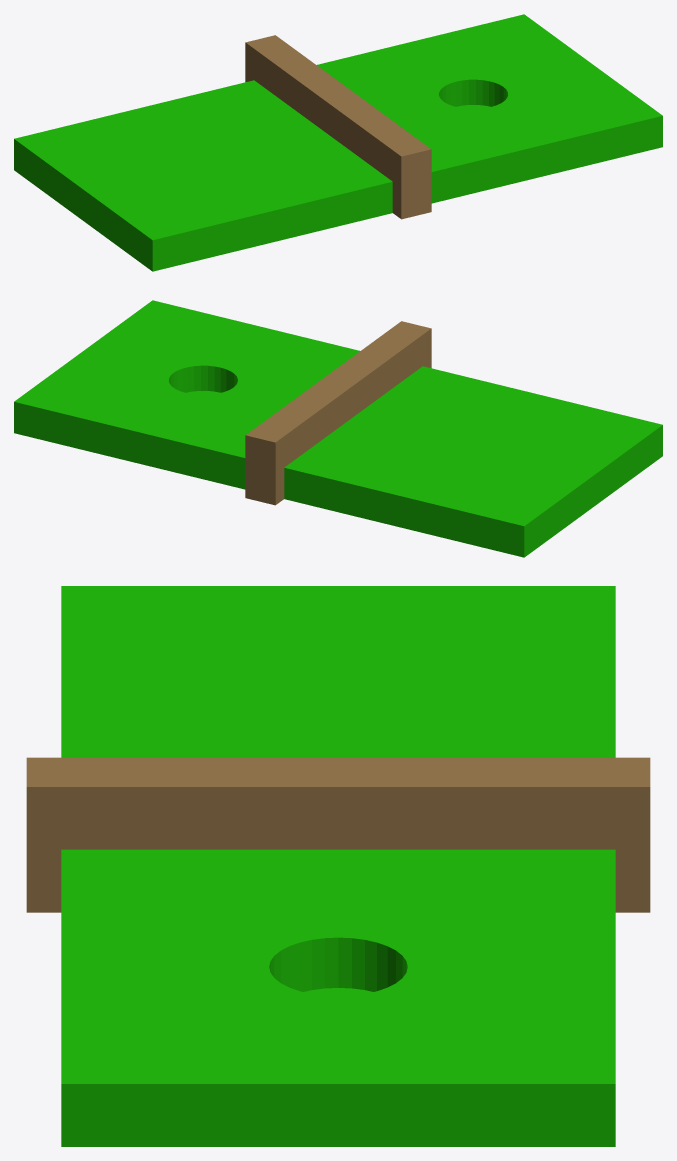
Rendered from lane.gltf.
The picture shows the model from 3 angles, top to bottom: view 1: azimuth 30°, elevation 25°; view 2: azimuth 150°, elevation 25°; view 3: azimuth 270°, elevation 25°; orthographic projection. The views are drawn at different scales.
Parts seen in each view (by area): view 1: BasicFloor, HoleFloor, Wall; view 2: BasicFloor, HoleFloor, Wall; view 3: HoleFloor, BasicFloor, Wall.
Part boxes in pixels (x1,y1,x2,y2): BasicFloor: (14,80,392,271); HoleFloor: (317,14,662,203); Wall: (245,35,431,219); BasicFloor: (284,366,662,557); HoleFloor: (14,300,359,489); Wall: (245,321,431,505); HoleFloor: (61,849,615,1146); BasicFloor: (61,586,615,757); Wall: (26,757,650,912).
Bounding box in the file's own units: 0.85 × 0.1 × 0.45.
